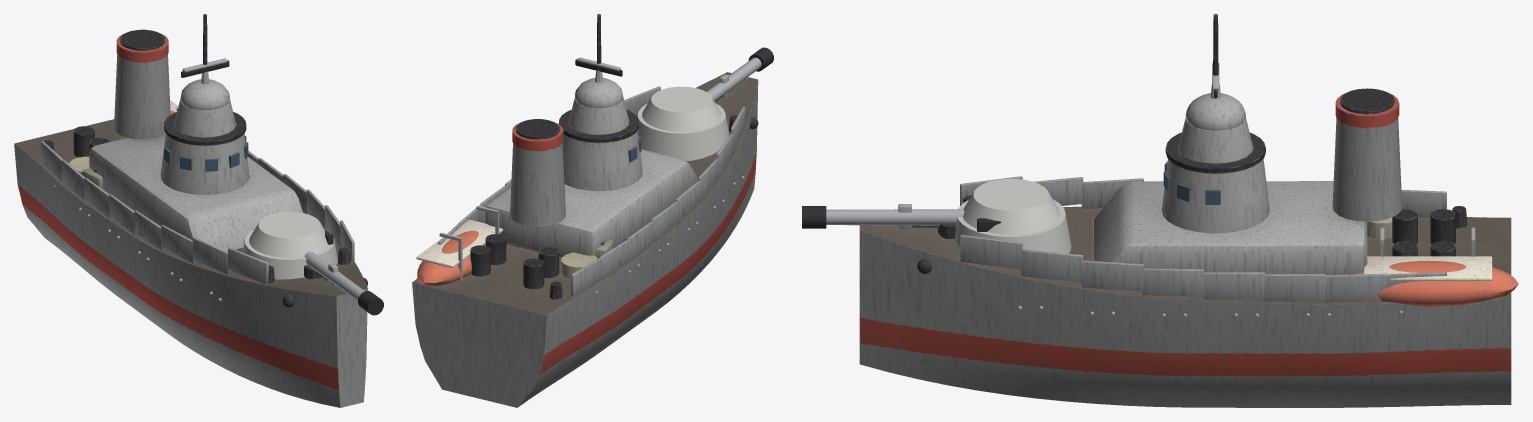
Rendered from gunboat.glb.
3 views of the same model, side by side, from view 1: azimuth 30°, elevation 25°; view 2: azimuth 150°, elevation 25°; view 3: azimuth 270°, elevation 25° (orthographic). The views are drawn at different scales.
Parts seen in each view (by area): view 1: Hull, Turret, Barrel, Spin; view 2: Hull, Turret, Barrel, Spin; view 3: Hull, Turret, Barrel.
Boxes of the visible parts, x1,y1,x2,y2 form: Hull: [14, 14, 367, 407]; Turret: [242, 211, 337, 279]; Barrel: [304, 251, 383, 315]; Spin: [181, 58, 229, 84]; Hull: [412, 14, 758, 407]; Turret: [637, 86, 728, 161]; Barrel: [706, 47, 773, 101]; Spin: [575, 57, 622, 82]; Hull: [859, 14, 1518, 407]; Turret: [954, 179, 1071, 253]; Barrel: [802, 206, 964, 228].
Size of the model in its own units: 2.96 by 5.35 by 9.46.
15 materials, 12 textured.
